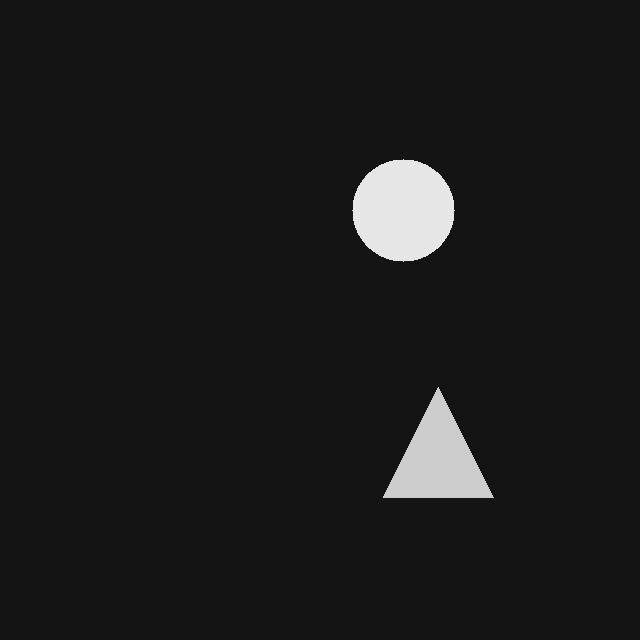circle: (352, 159, 454, 261)
triangle: (383, 387, 493, 497)
